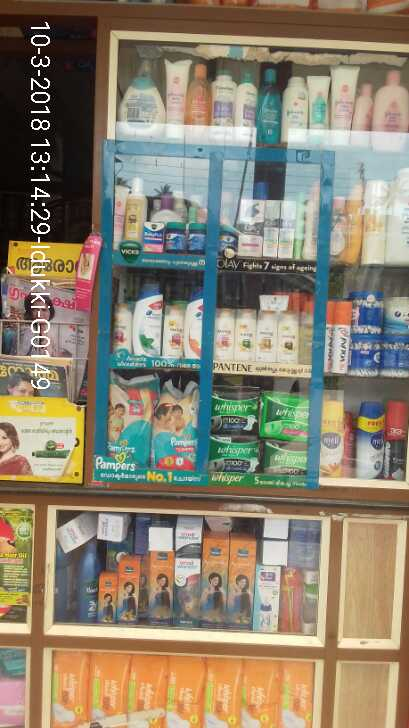vicks: (137, 220, 215, 258)
